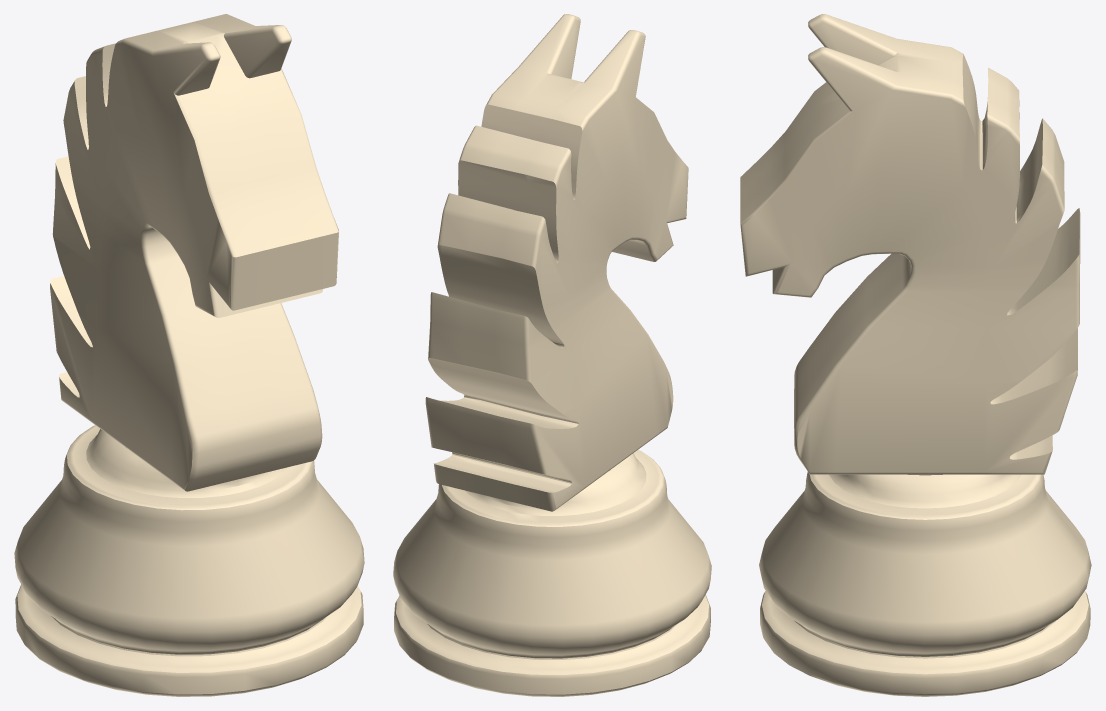
The model's file is Knight.fbx.
The picture shows the model from 3 angles, left to right: view 1: azimuth 30°, elevation 25°; view 2: azimuth 150°, elevation 25°; view 3: azimuth 270°, elevation 25°; orthographic projection. The views are drawn at different scales.
Parts seen in each view (by area): view 1: Knight.002; view 2: Knight.002; view 3: Knight.002.
Boxes of the visible parts, x1,y1,x2,y2 form: Knight.002: (14, 14, 364, 696); Knight.002: (393, 14, 711, 696); Knight.002: (740, 14, 1091, 696).
Size of the model in its own units: 54.83 by 109 by 57.9.
